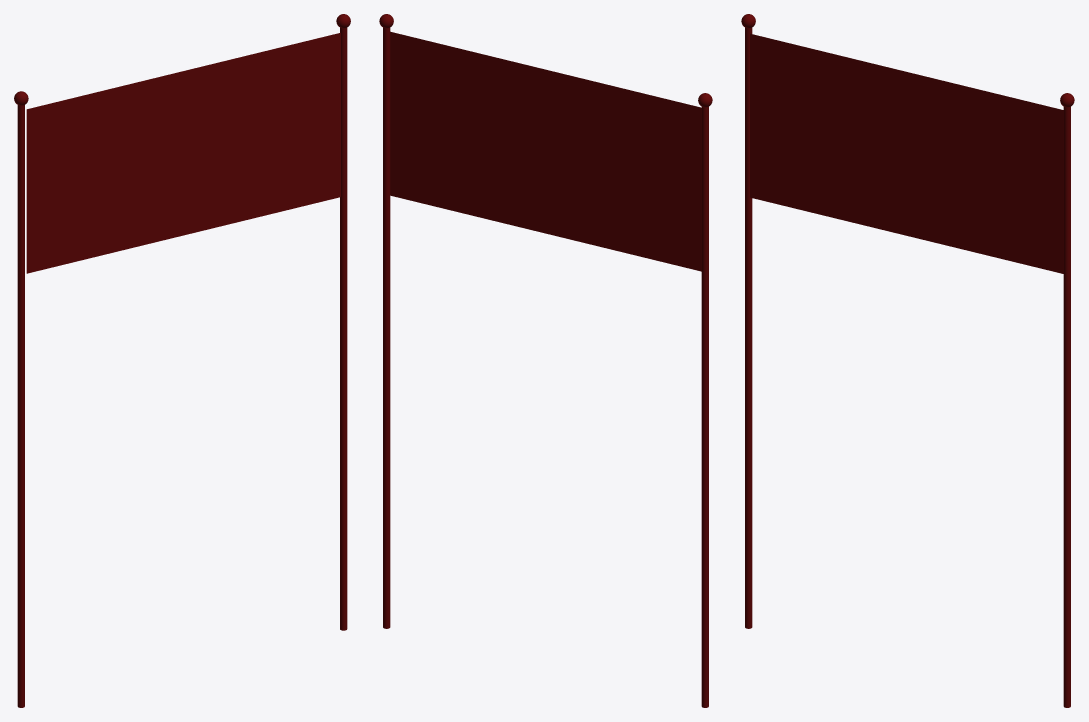
File: Banderola_eslalon.obj
3 renders of one model, left to right at view 1: azimuth 30°, elevation 25°; view 2: azimuth 150°, elevation 25°; view 3: azimuth 330°, elevation 25°, orthographic.
Parts seen in each view (by area): view 1: Plane001; view 2: Plane001; view 3: Plane001.
Boxes of the visible parts, x1,y1,x2,y2 form: Plane001: (14,14,350,707); Plane001: (379,14,712,707); Plane001: (741,14,1074,707).
Size of the model in its own units: 41.78 by 73.56 by 1.87.
